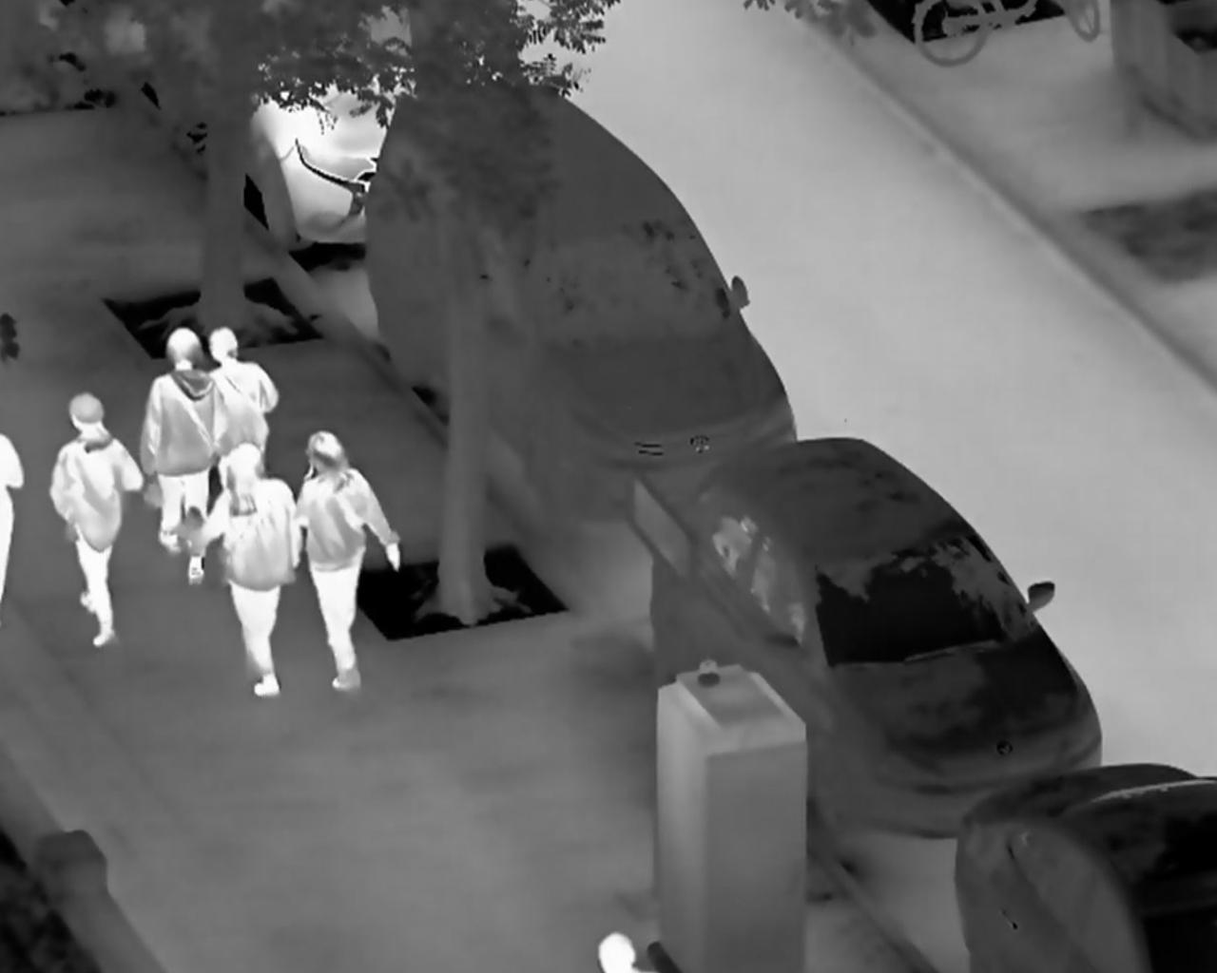person: (287, 429, 400, 697), (186, 443, 300, 698), (46, 389, 145, 650), (127, 329, 228, 583), (201, 328, 278, 485)
